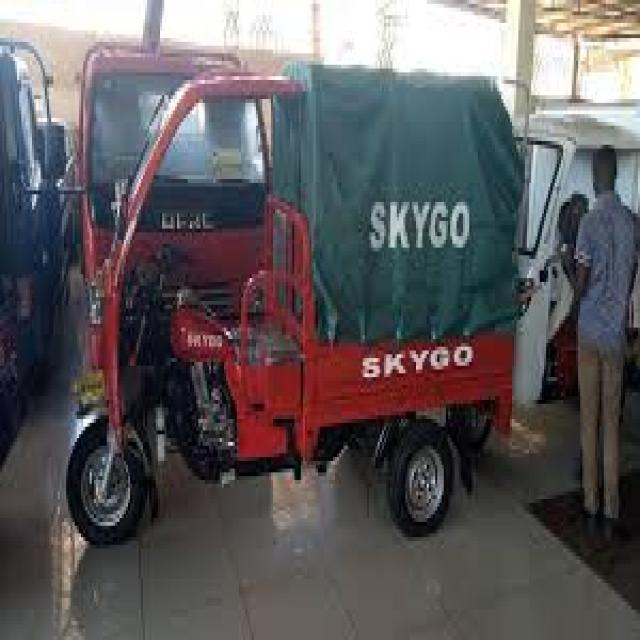tuktuk: (40, 47, 534, 561)
